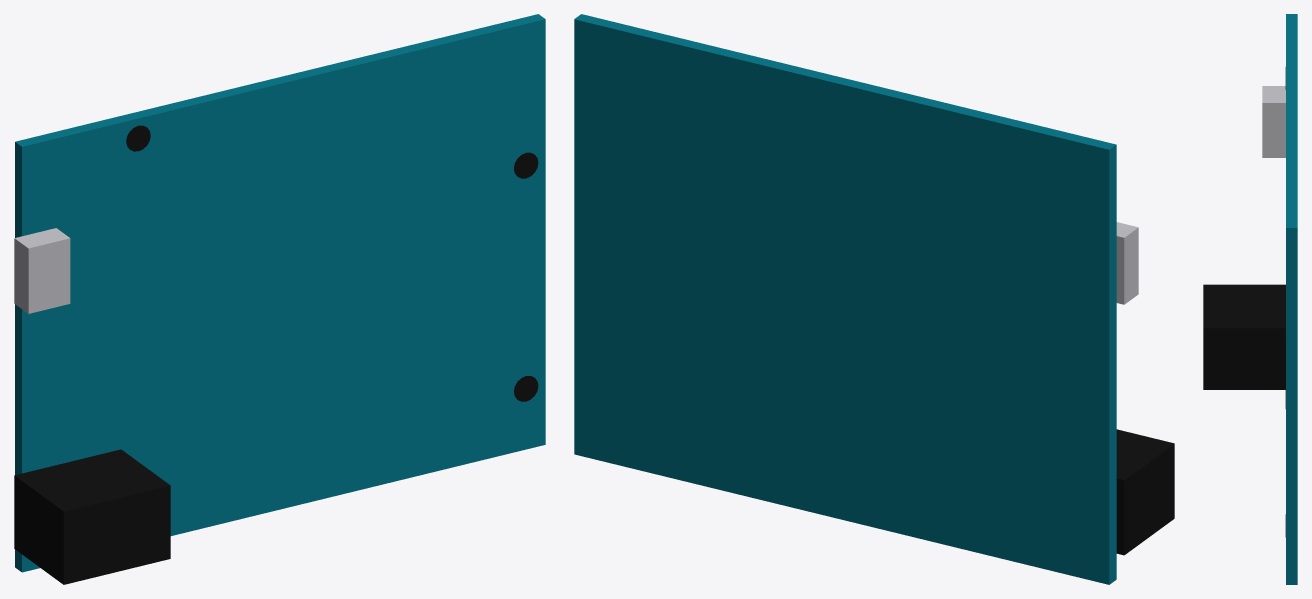
Rendered from mod-leonardo.glb.
The picture shows the model from 3 angles, left to right: view 1: azimuth 30°, elevation 25°; view 2: azimuth 150°, elevation 25°; view 3: azimuth 270°, elevation 25°; orthographic projection. The views are drawn at different scales.
Parts seen in each view (by area): view 1: PCB-ARDUINO, PORT, MET-PORT; view 2: PCB-ARDUINO, PORT, MET-PORT; view 3: PORT, PCB-ARDUINO, MET-PORT.
Boxes of the visible parts, <box> form: PCB-ARDUINO: <box>15,14,545,572</box>; PORT: <box>14,449,170,584</box>; MET-PORT: <box>14,228,70,313</box>; PCB-ARDUINO: <box>574,14,1116,584</box>; PORT: <box>1116,429,1174,555</box>; MET-PORT: <box>1116,222,1138,304</box>; PORT: <box>1203,284,1285,389</box>; PCB-ARDUINO: <box>1286,14,1297,584</box>; MET-PORT: <box>1262,86,1285,157</box>.
Bounding box in the file's own units: 69.6 × 53.3 × 12.8.
